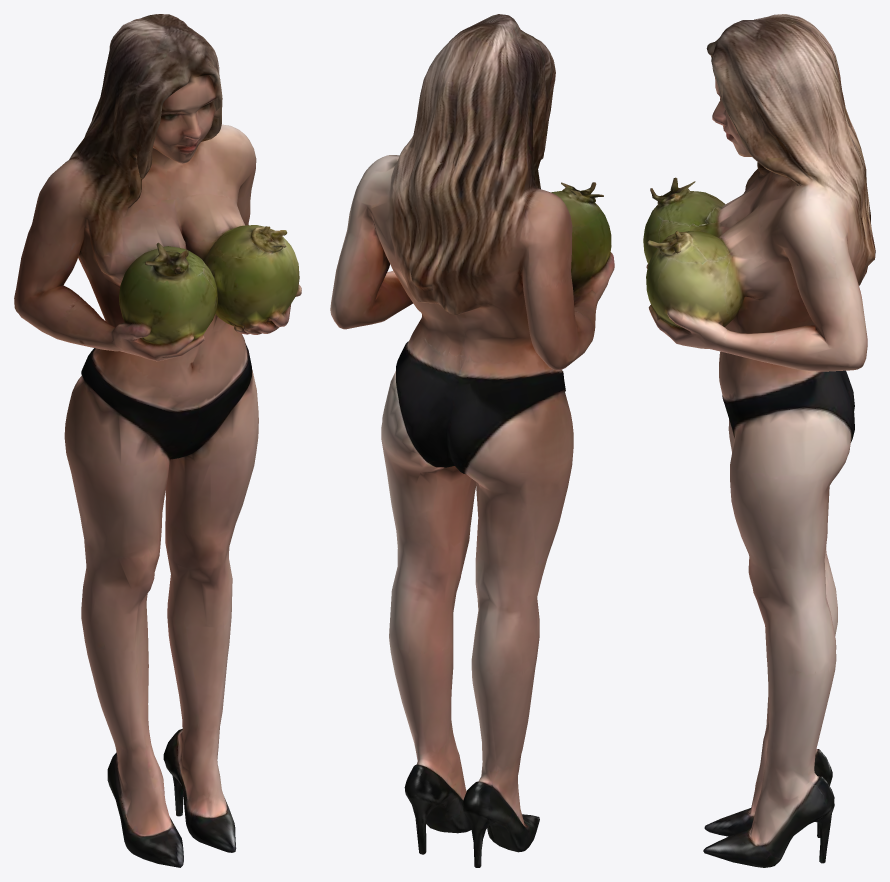
Rendered from woman_v17.glb.
The picture shows the model from 3 angles, left to right: view 1: azimuth 30°, elevation 25°; view 2: azimuth 150°, elevation 25°; view 3: azimuth 270°, elevation 25°; orthographic projection.
Visible parts, largest first — view 1: woman_v17_n0; view 2: woman_v17_n0; view 3: woman_v17_n0.
Boxes of the visible parts, box(x1,y1,x2,y2) form: woman_v17_n0: box(14, 14, 301, 867); woman_v17_n0: box(330, 14, 614, 867); woman_v17_n0: box(643, 14, 875, 867).
Size of the model in its own units: 0.5064 by 1.7 by 0.435.
Materials: 1 (1 with a texture image).
